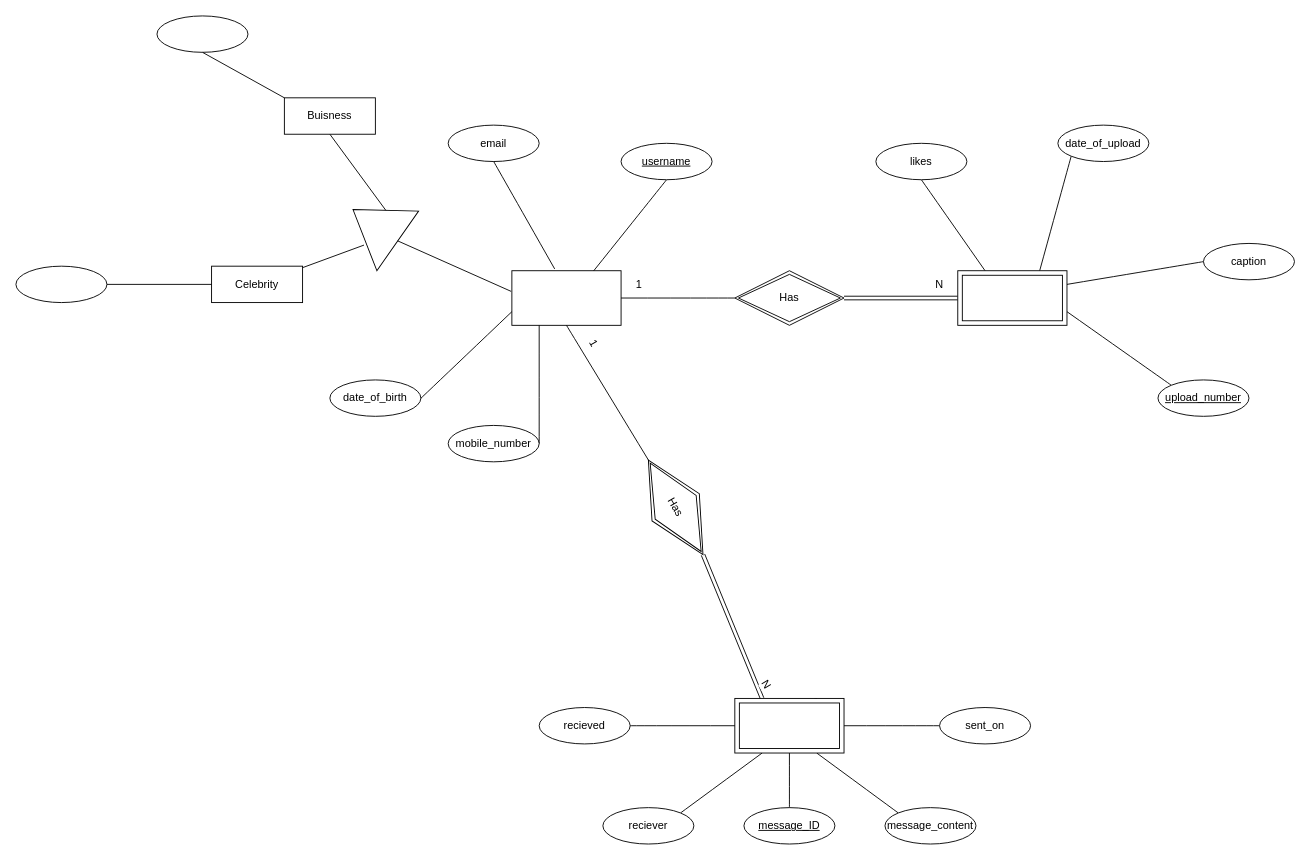
This 1310x860 diagram has some shape labels left out. The shapes that lost their labels are listed below. From the top down, each one's centre as x and y in pixels, then its label:
the point at 202,33: Buisness_Link
the point at 375,225: Is-a
the point at 61,284: Verification
the point at 566,297: User_Accounts
the point at 1012,297: Uploads
the point at 789,725: Messenger
